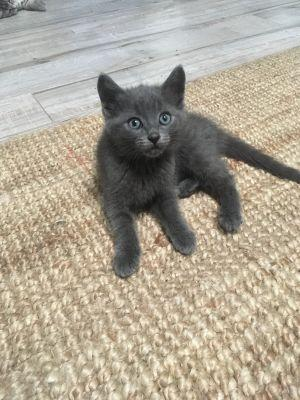rblue: (89, 61, 197, 165)
